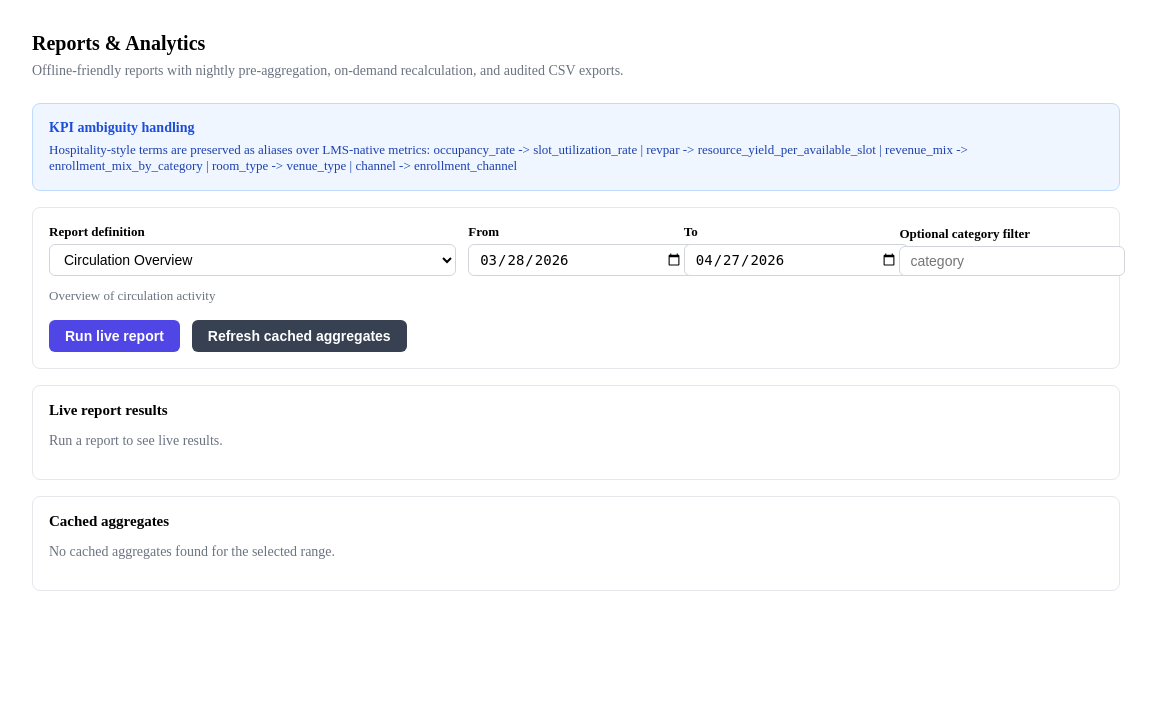
Test case: ReportsPage › shows run result rows after running a report
This screenshot has width=1152, height=720.
Click the button "Run live report".
click(114, 336)  # box [49,320,180,352]
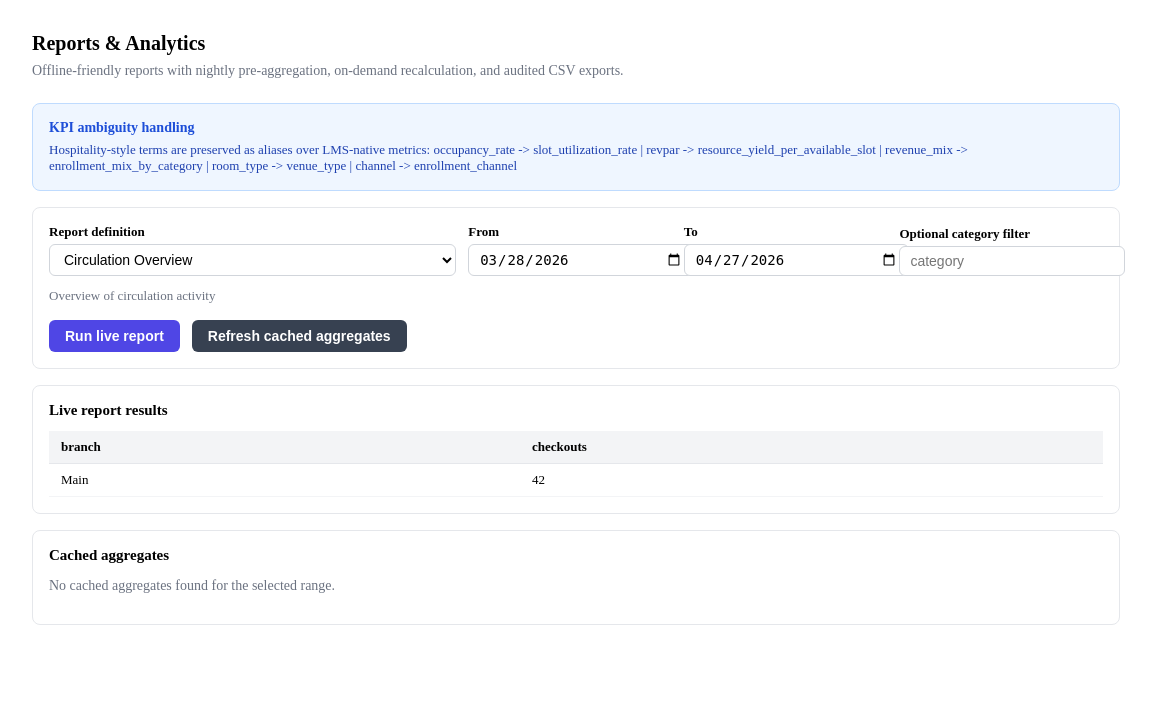
Check: the text "42" is shown, box [520,464,1103,497]
